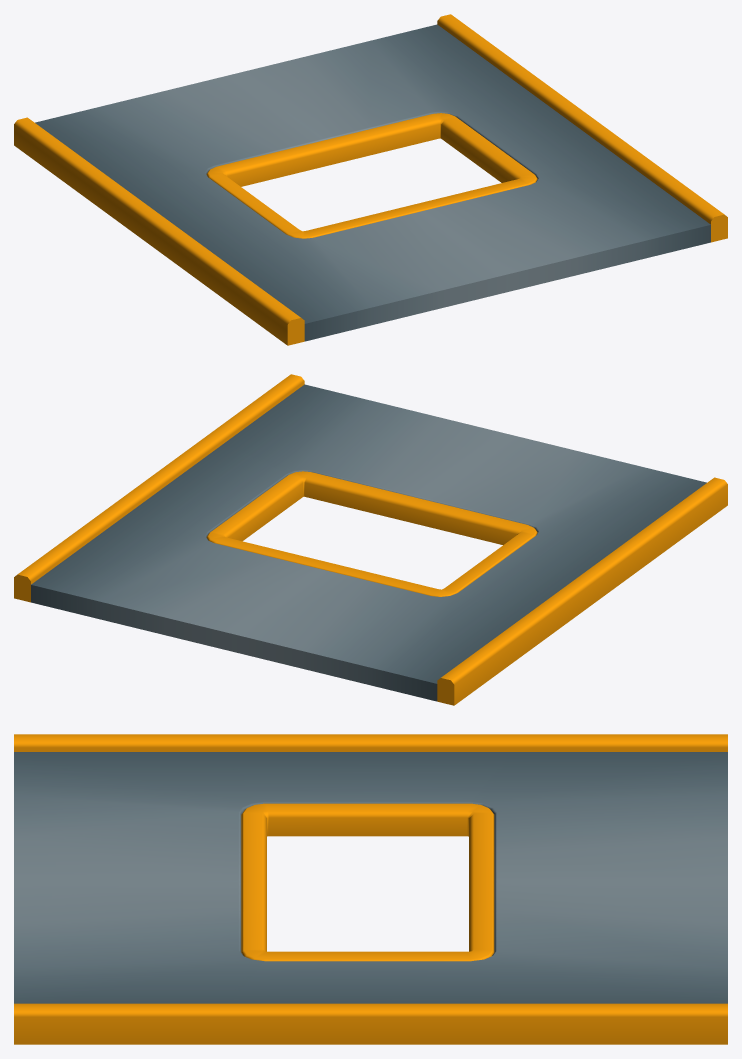
The model's file is platform_004.fbx.
The picture shows the model from 3 angles, top to bottom: view 1: azimuth 30°, elevation 25°; view 2: azimuth 150°, elevation 25°; view 3: azimuth 270°, elevation 25°; orthographic projection. The views are drawn at different scales.
Visible parts, largest first — view 1: platform_004; view 2: platform_004; view 3: platform_004.
Part boxes in pixels (x1=…): platform_004: x1=14, y1=14, x2=727, y2=345; platform_004: x1=14, y1=374, x2=727, y2=705; platform_004: x1=14, y1=734, x2=727, y2=1044.
Bounding box in the file's own units: 1300 × 1400 × 69.59.
